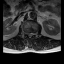CCS_normal: (29, 30, 31, 40)
LFS_normal: (33, 30, 35, 36)
LLS_normal: (31, 30, 33, 38)
RFS_normal: (24, 30, 27, 36)
RLS_normal: (27, 30, 29, 38)
